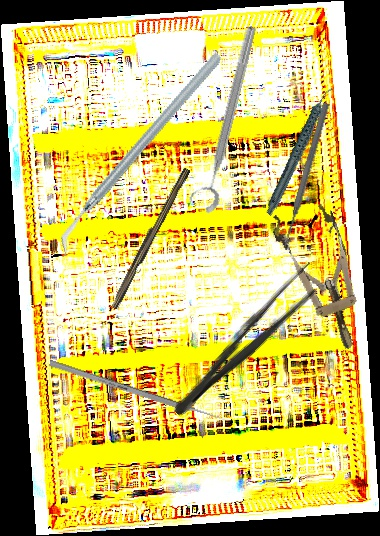Chopper: (10, 50, 270, 258)
Dressing Forceps: (165, 258, 329, 426)
Fixation Ring: (185, 21, 263, 216)
Handpiece: (241, 85, 359, 217)
Pusher: (48, 359, 233, 426), (280, 102, 331, 248)
Scalpel Handle: (108, 165, 191, 311)
Speculum: (268, 196, 378, 360)
